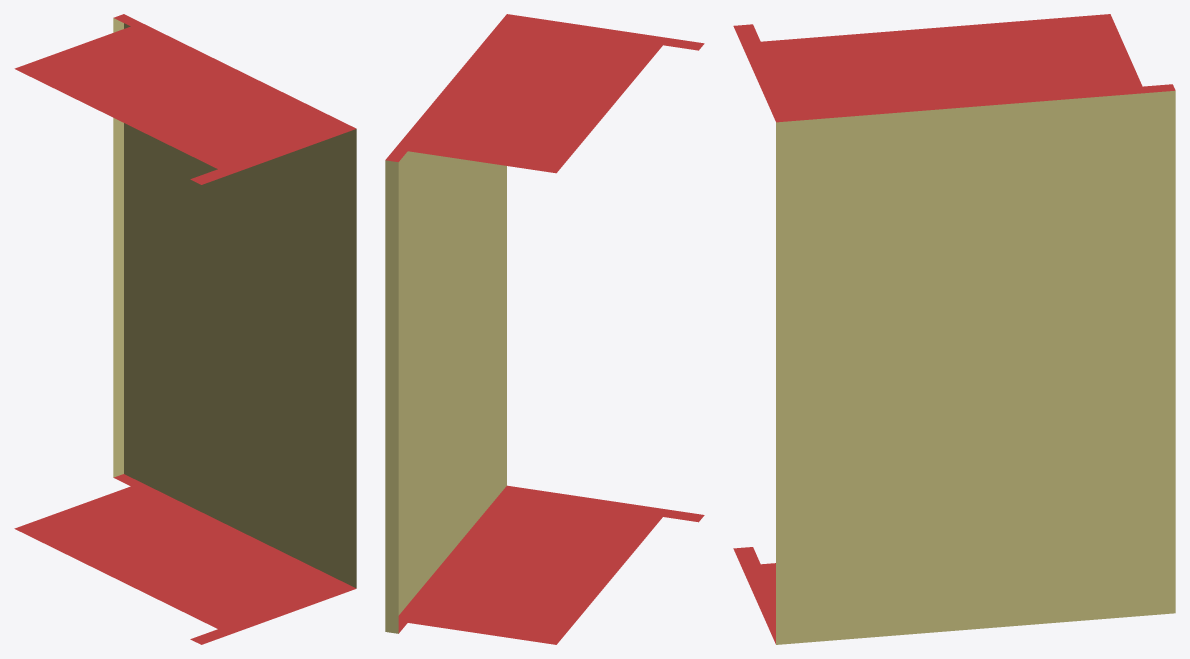
3 views of the same model, side by side, from view 1: azimuth 30°, elevation 25°; view 2: azimuth 150°, elevation 25°; view 3: azimuth 270°, elevation 25° (orthographic). The views are drawn at different scales.
Size of the model in its own units: 4.21 by 7.26 by 9.46.
